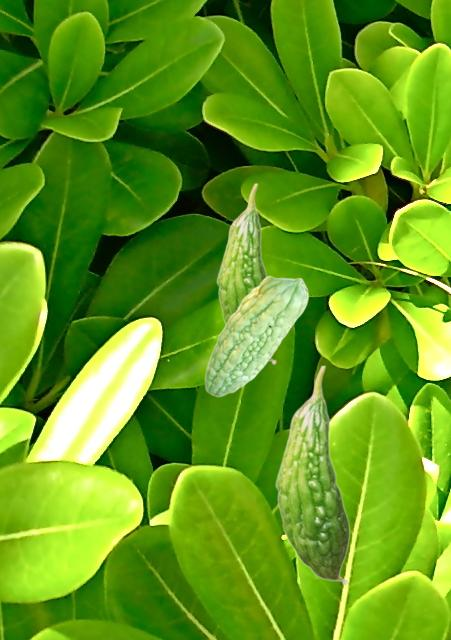ampalaya: (273, 363, 352, 585), (202, 273, 310, 399), (216, 182, 277, 365)
